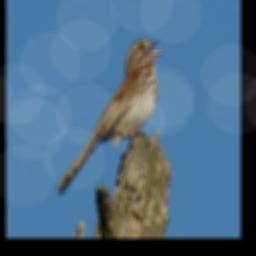Sparrow: (51, 36, 162, 197)
